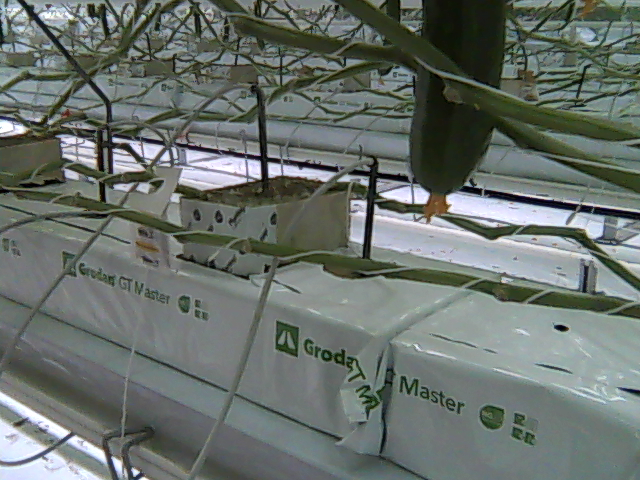concombre: (401, 1, 513, 225)
